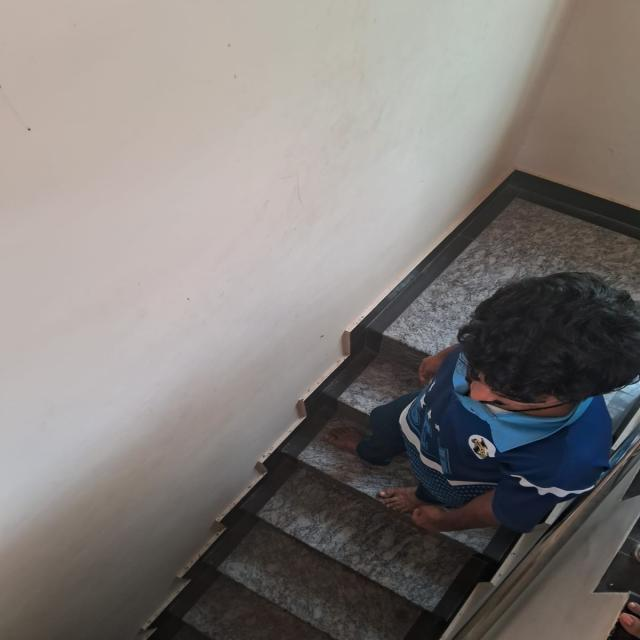humans: (381, 256, 631, 542)
